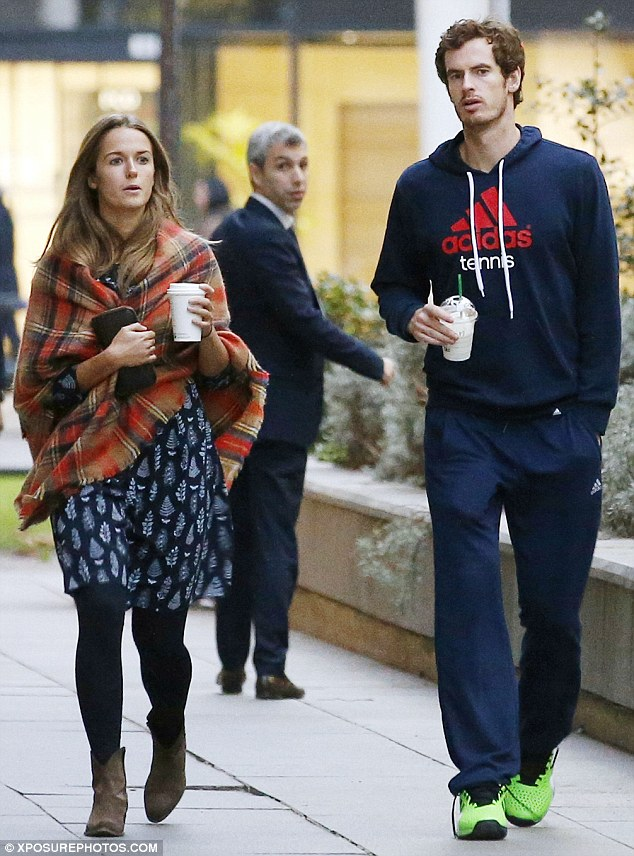Person: (373, 21, 622, 843), (10, 114, 230, 837), (234, 123, 396, 701)
